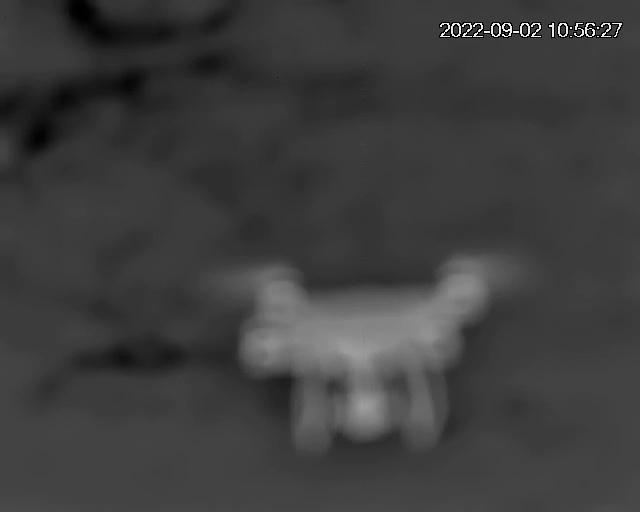DJI-Phantom: (258, 275, 474, 449)
